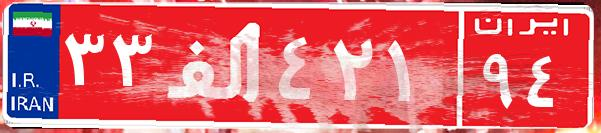1: (385, 28, 445, 110)
2: (330, 28, 385, 110)
3: (57, 26, 110, 107), (110, 28, 158, 105)
4: (273, 28, 330, 110), (525, 38, 570, 115)
9: (475, 38, 525, 113)
الف: (158, 15, 273, 115)
